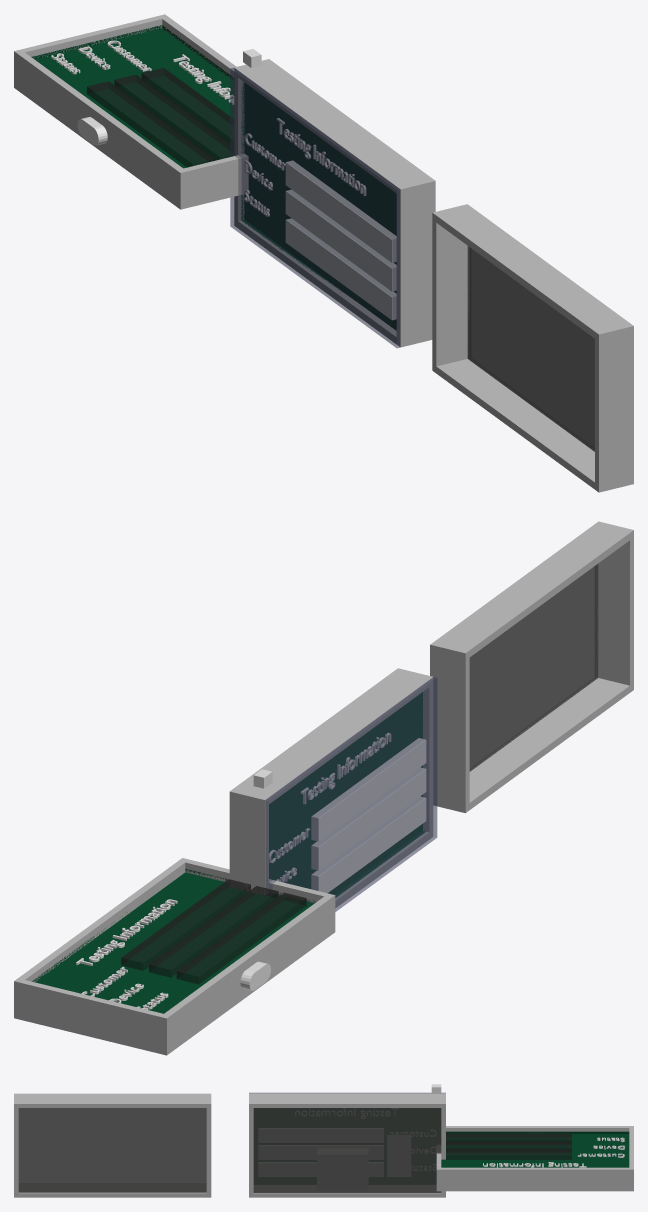
File: LEDSingDisplay_design1.glb
3 views of the same model, one above another, from view 1: azimuth 30°, elevation 25°; view 2: azimuth 150°, elevation 25°; view 3: azimuth 270°, elevation 25° (orthographic). The views are drawn at different scales.
Parts seen in each view (by area): view 1: Plane.007, Plane.009, Plane.005, Plane.011, Plane.010, Plane.015, Plane.003, Plane.014, Plane, Plane.001, Plane.002, Text (+1 smaller); view 2: Plane.007, Plane.009, Plane.011, Plane.015, Plane.010, Plane.005, Plane.014, Plane.003, Plane, Plane.001, Plane.002, Text.004 (+1 smaller); view 3: Plane.010, Plane.008, Plane.015, Plane.011, Plane.009, Plane.005, Plane.014, Plane.007, Text.004.
Boxes of the visible parts, bbox=[...] form: Plane.007: bbox=[230, 67, 400, 348]; Plane.009: bbox=[432, 204, 633, 492]; Plane.005: bbox=[234, 59, 435, 347]; Plane.011: bbox=[31, 25, 233, 168]; Plane.010: bbox=[467, 246, 594, 451]; Plane.015: bbox=[14, 14, 248, 209]; Plane.003: bbox=[241, 82, 396, 330]; Plane.014: bbox=[87, 68, 233, 167]; Plane: bbox=[285, 160, 396, 262]; Plane.001: bbox=[285, 190, 396, 291]; Plane.002: bbox=[285, 218, 396, 320]; Text: bbox=[277, 118, 365, 195]; Plane.007: bbox=[265, 677, 437, 911]; Plane.009: bbox=[430, 521, 633, 813]; Plane.011: bbox=[32, 868, 315, 1013]; Plane.015: bbox=[14, 858, 335, 1055]; Plane.010: bbox=[469, 564, 598, 771]; Plane.005: bbox=[229, 668, 433, 907]; Plane.014: bbox=[121, 879, 306, 984]; Plane.003: bbox=[269, 692, 425, 897]; Plane: bbox=[311, 738, 426, 841]; Plane.001: bbox=[311, 767, 426, 870]; Plane.002: bbox=[311, 796, 426, 892]; Text.004: bbox=[76, 899, 177, 965]; Plane.010: bbox=[18, 1108, 206, 1192]; Plane.008: bbox=[253, 1108, 441, 1192]; Plane.015: bbox=[436, 1126, 633, 1191]; Plane.011: bbox=[441, 1131, 629, 1167]; Plane.009: bbox=[14, 1093, 211, 1197]; Plane.005: bbox=[249, 1093, 445, 1197]; Plane.014: bbox=[446, 1133, 571, 1159]; Plane.007: bbox=[249, 1092, 445, 1093]; Text.004: bbox=[483, 1162, 586, 1167].
Bounding box in the file's own units: 0.2333 × 0.245 × 1.32.
